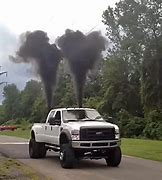smoke: (59, 26, 109, 105), (17, 28, 62, 105)
